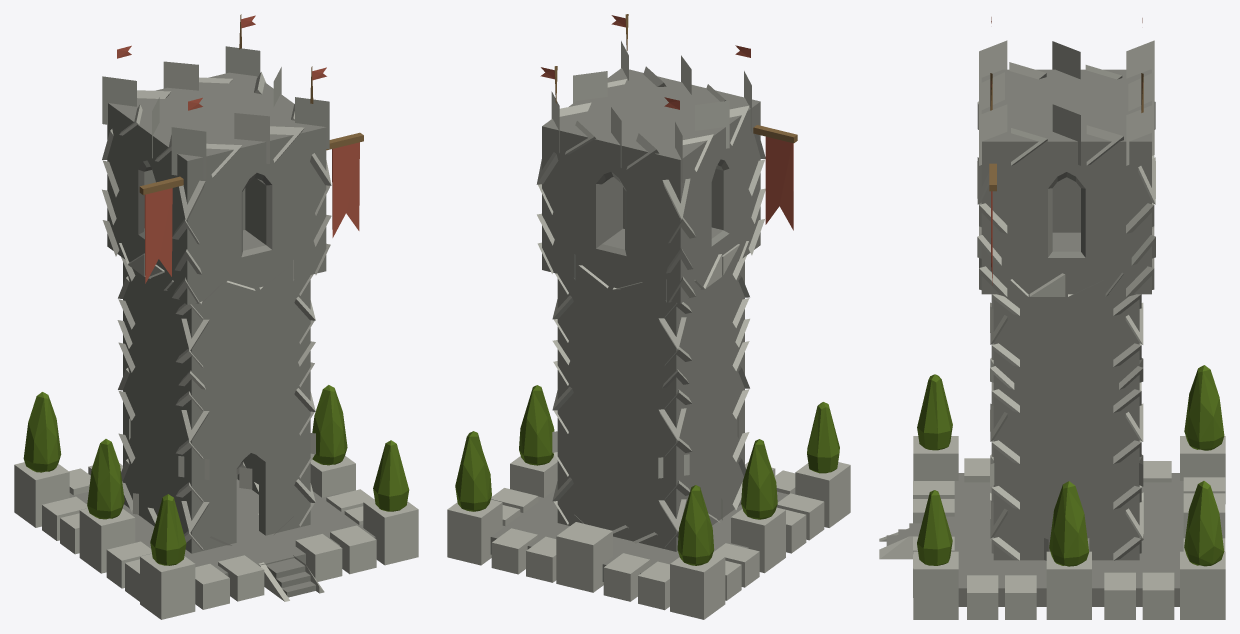
Rendered from watchtower_lod.glb.
3 views of the same model, side by side, from view 1: azimuth 30°, elevation 25°; view 2: azimuth 150°, elevation 25°; view 3: azimuth 270°, elevation 25° (orthographic). The views are drawn at different scales.
Parts seen in each view (by area): view 1: WatchTower_SecondAge_Level3; view 2: WatchTower_SecondAge_Level3; view 3: WatchTower_SecondAge_Level3.
Boxes of the visible parts, left/top/right/bottom form: WatchTower_SecondAge_Level3: left=14, top=14, right=418, bottom=619; WatchTower_SecondAge_Level3: left=447, top=14, right=850, bottom=619; WatchTower_SecondAge_Level3: left=879, top=17, right=1225, bottom=619.
Bounding box in the file's own units: 0.8133 × 1.45 × 0.892.
